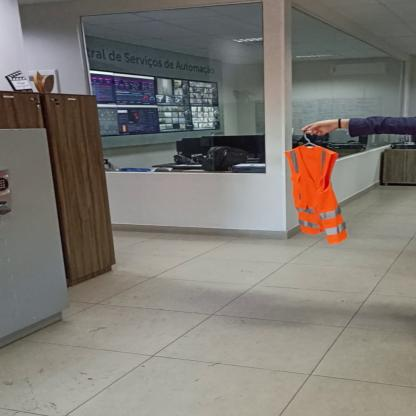colete: (272, 145, 350, 244)
